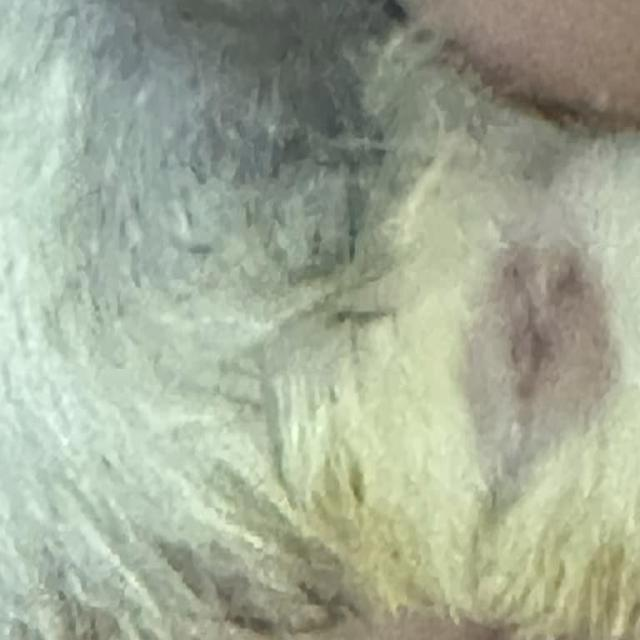fem: (456, 243, 636, 495)
